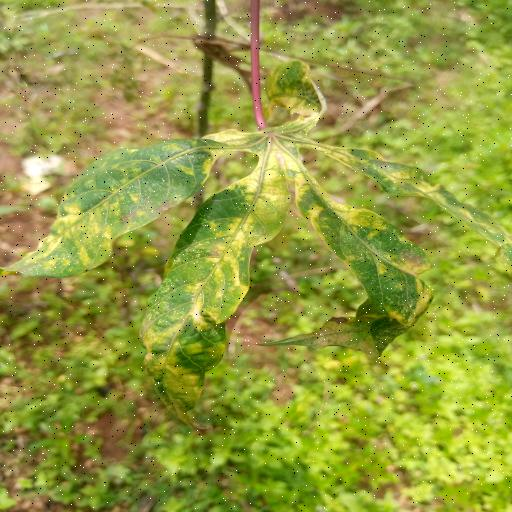Cassava_Mosaic: (0, 56, 512, 432)
